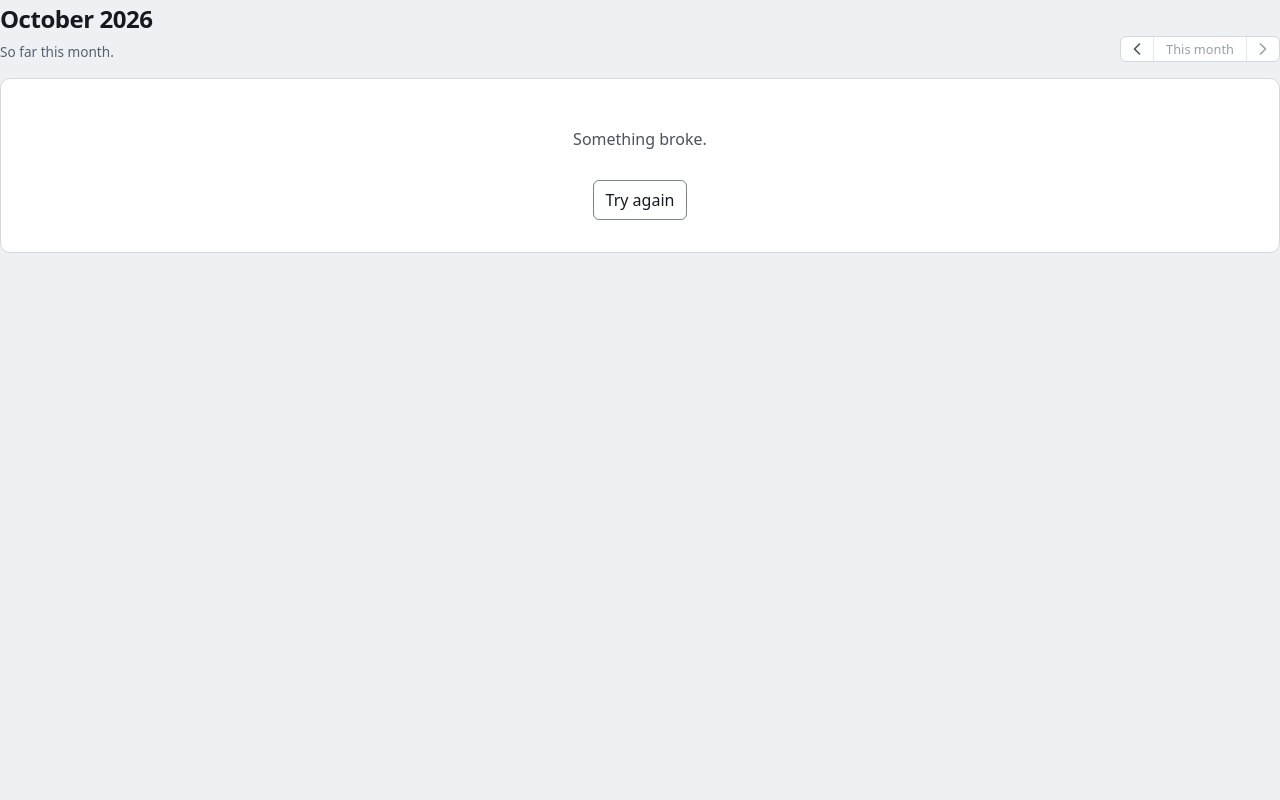
what the reader is not allowed to see › offers a retry when the server fails
Click the button "Try again": (640, 200) [593, 180, 687, 220]
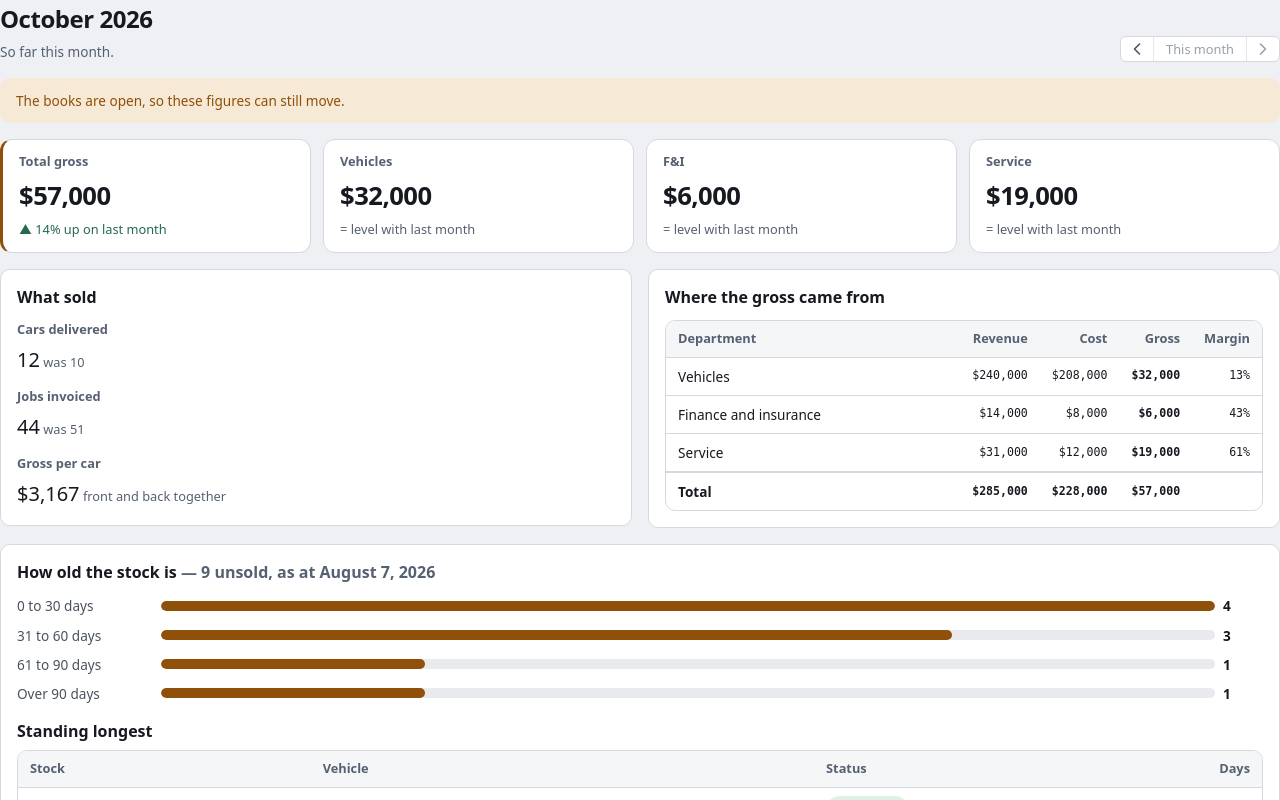
Expected: the text "$57,000" is shown, [19, 178, 111, 213]
